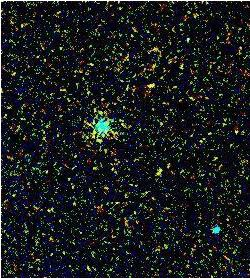star: (147, 159, 177, 189)
